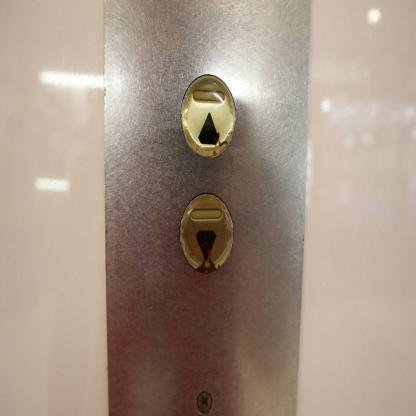down: (175, 189, 236, 277)
up: (178, 71, 238, 160)
